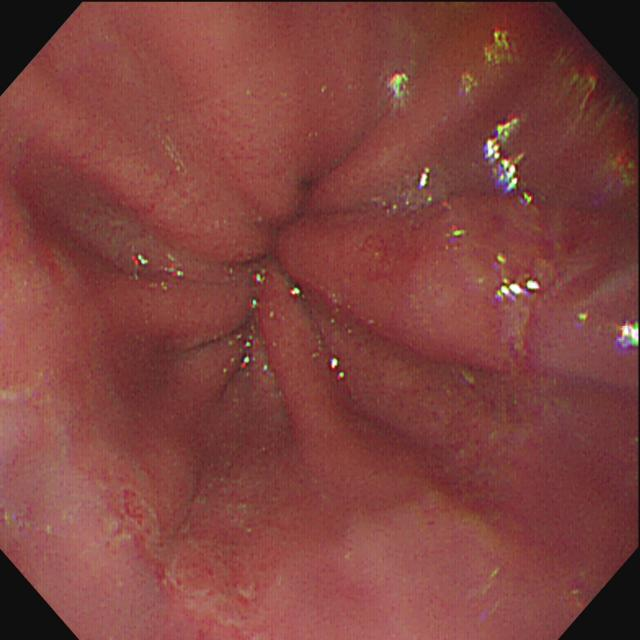I: (143, 155, 404, 458)
U: (484, 115, 527, 195), (494, 278, 544, 302), (389, 71, 410, 109), (617, 321, 640, 351)
